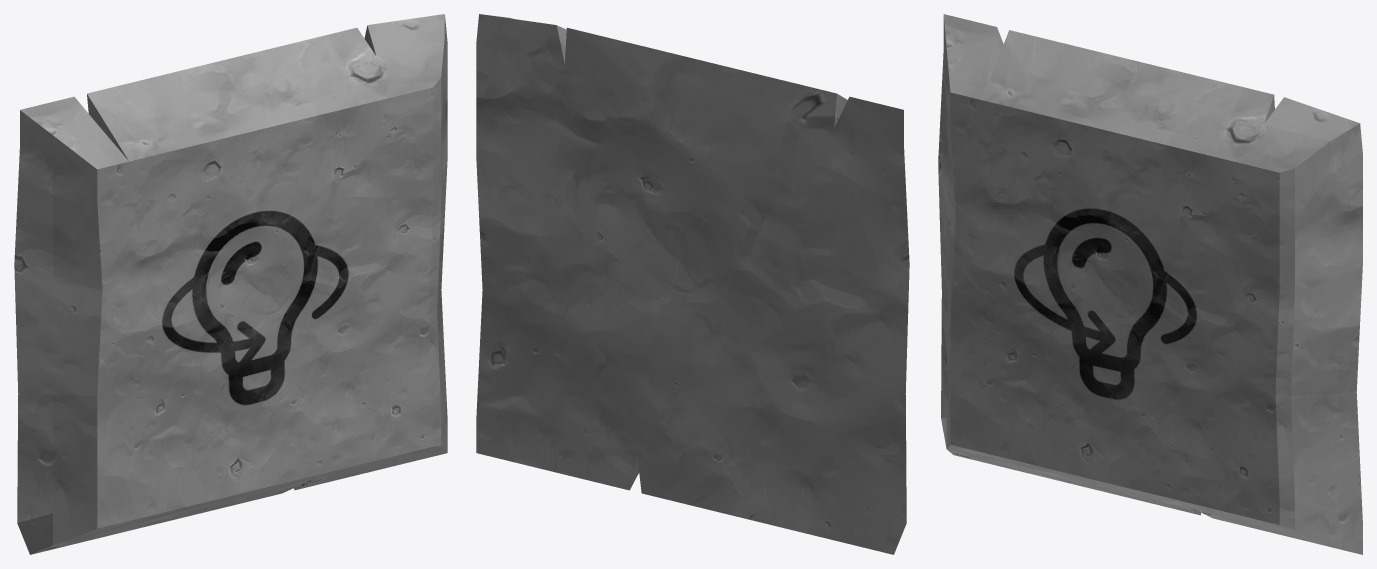
The model's file is Rotation-Answer_button.fbx.
3 renders of one model, left to right at view 1: azimuth 30°, elevation 25°; view 2: azimuth 150°, elevation 25°; view 3: azimuth 330°, elevation 25°, orthographic. The views are drawn at different scales.
Parts seen in each view (by area): view 1: Cube.001; view 2: Cube.001; view 3: Cube.001.
Part boxes in pixels (x1,y1,x2,y2): Cube.001: (14,14,447,554); Cube.001: (476,14,909,554); Cube.001: (938,14,1362,554).
Bounding box in the file's own units: 203 × 200 × 28.43.
